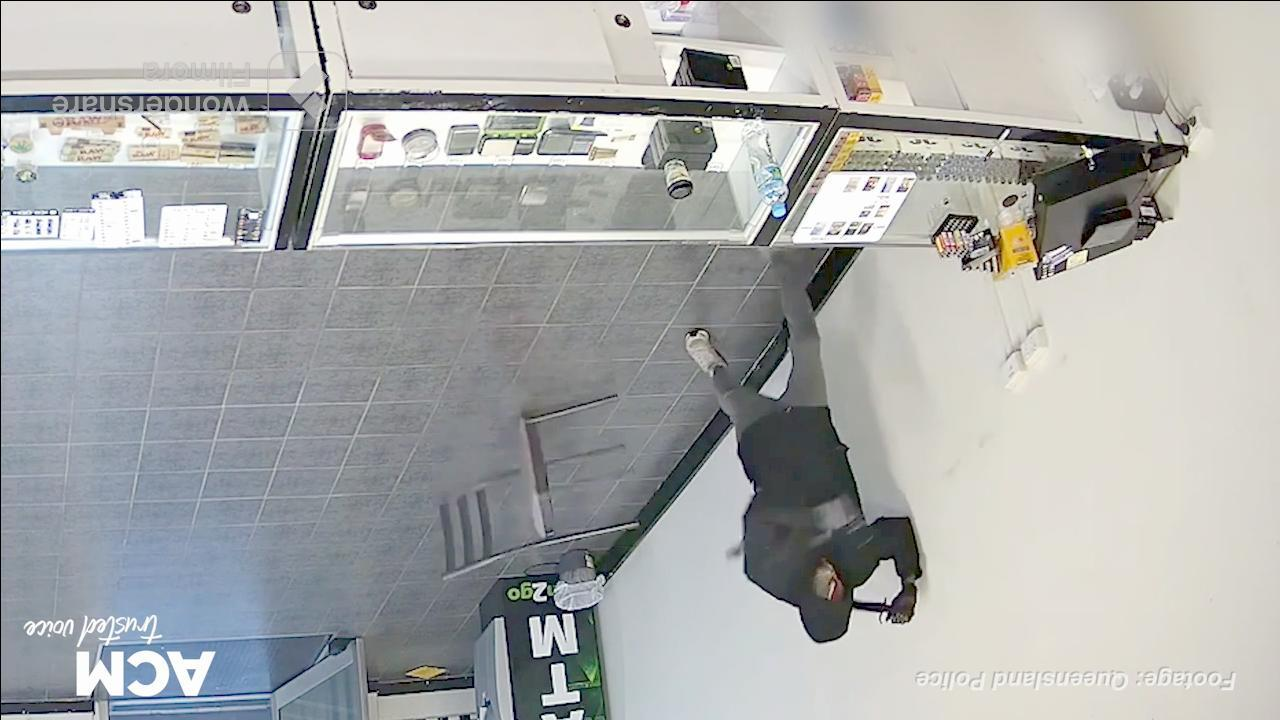melee: (839, 585, 897, 619)
